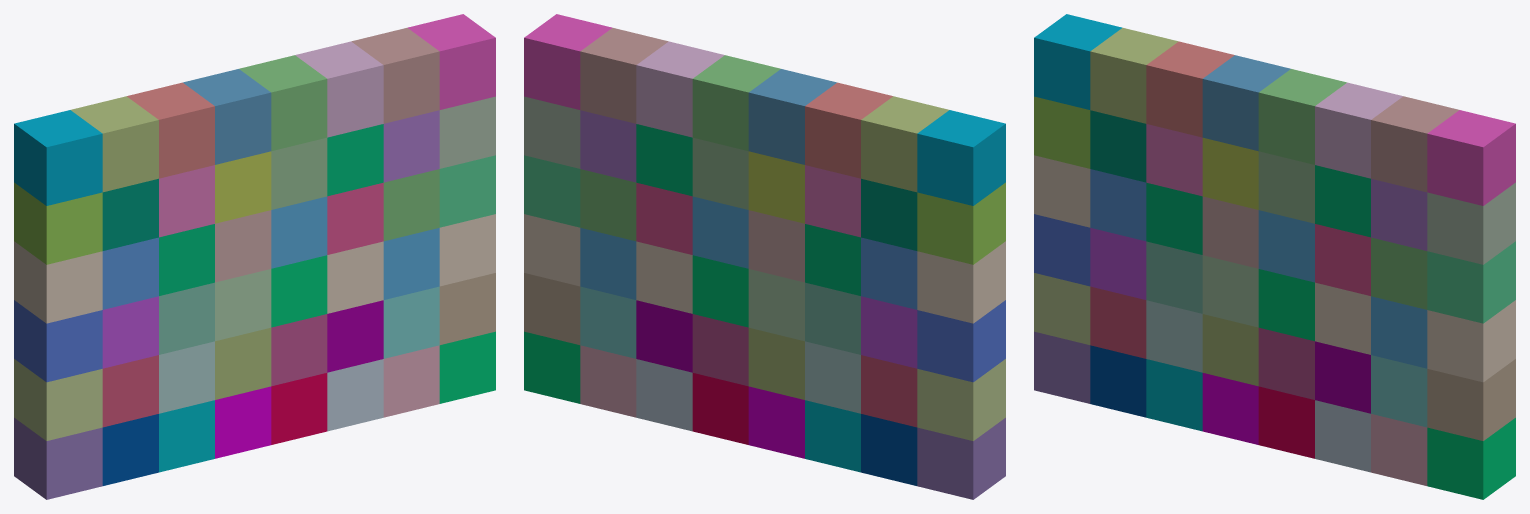
File: Tv00-Crt.gltf
3 renders of one model, left to right at view 1: azimuth 30°, elevation 25°; view 2: azimuth 150°, elevation 25°; view 3: azimuth 330°, elevation 25°, orthographic.
Bounding box in the file's own units: 8 × 6 × 1.
